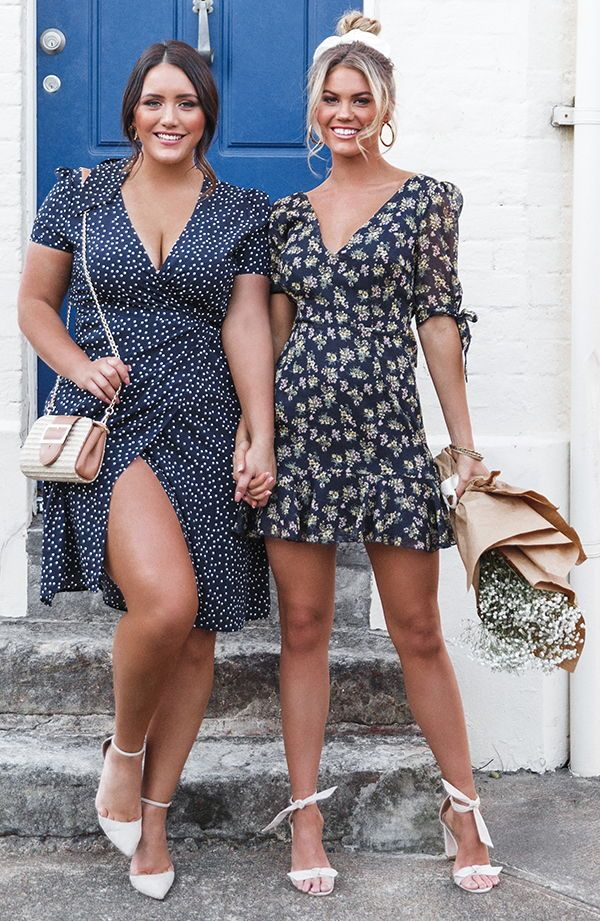Person: (17, 39, 274, 901), (274, 13, 502, 895)
